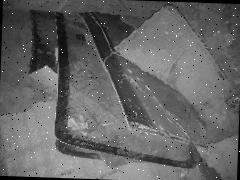glass: (16, 18, 239, 180)
